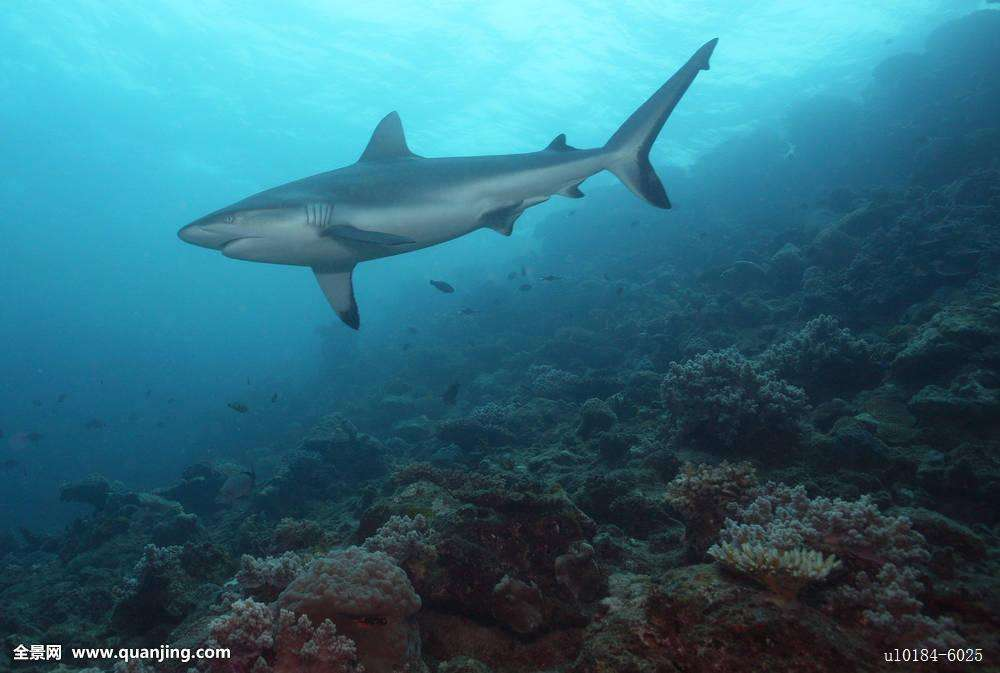shark: (177, 34, 721, 328)
